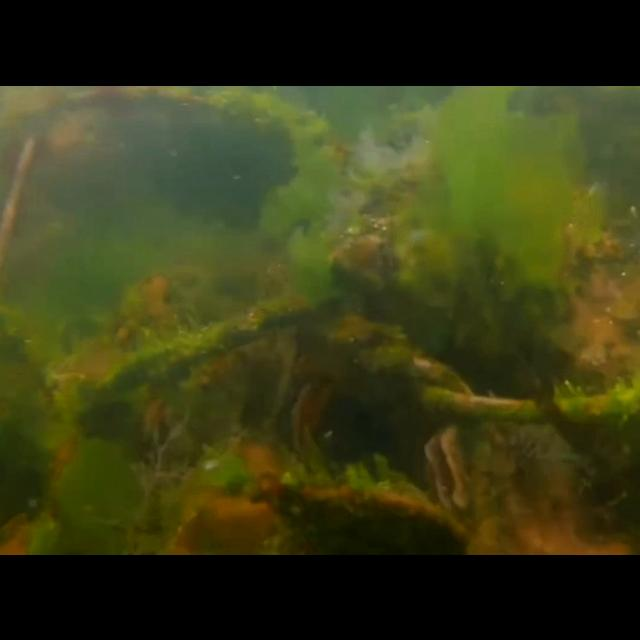Oyster-Closed: (260, 472, 472, 554)
Oyster-Open: (262, 328, 336, 472), (421, 422, 481, 516)
